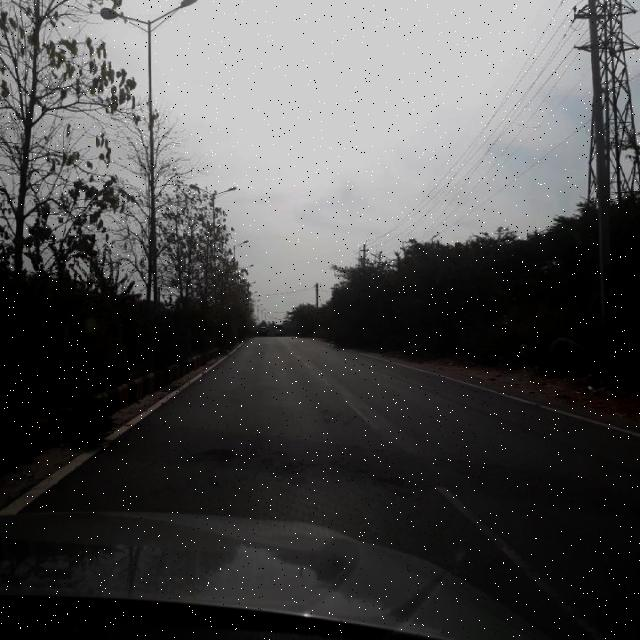D44: (481, 513, 595, 636)
